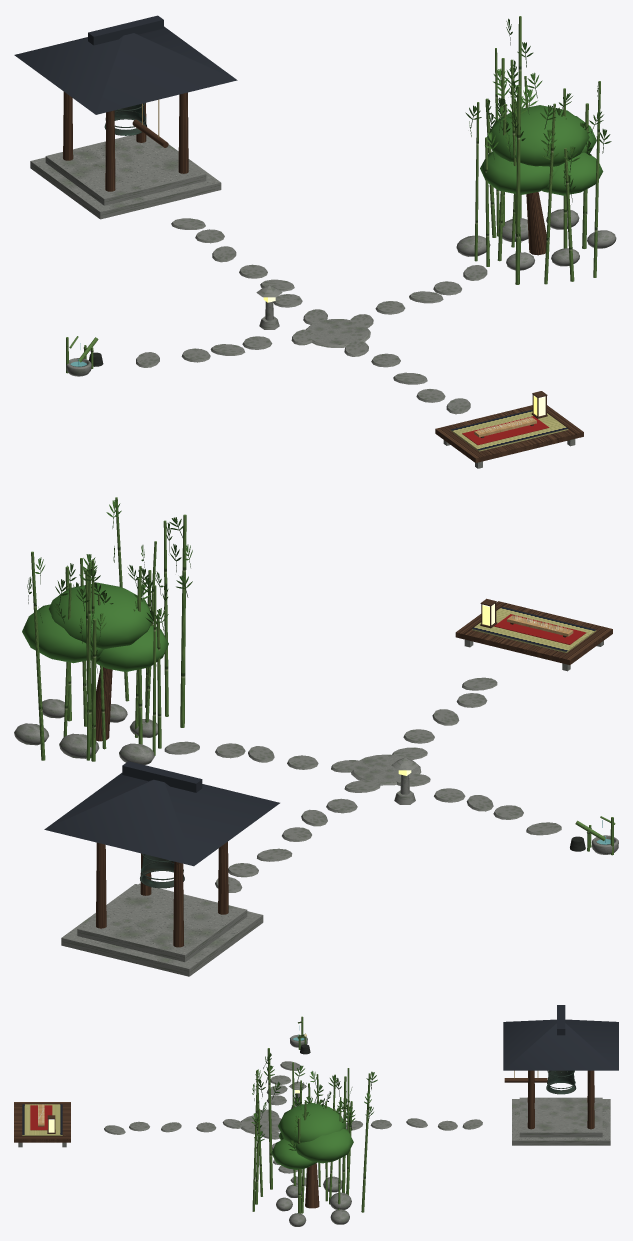
File: spatial-japan-garden.glb
3 views of the same model, one above another, from view 1: azimuth 30°, elevation 25°; view 2: azimuth 150°, elevation 25°; view 3: azimuth 270°, elevation 25° (orthographic). The views are drawn at different scales.
Parts seen in each view (by area): view 1: Shoro_Roof_Lower, Shoro_Plinth_Upper, Grove_Canopy_2, Shoro_Plinth_Lower, Engawa_Timber_Deck, Grove_Canopy_0, Engawa_Tatami_Mat, Grove_Canopy_3, Crossroads_Center_Stone, Shoro_Roof_Ridge, Grove_Gnarled_Trunk, Grove_Bamboo_6 (+6 smaller); view 2: Shoro_Roof_Lower, Shoro_Plinth_Upper, Grove_Canopy_2, Shoro_Plinth_Lower, Engawa_Timber_Deck, Grove_Canopy_1, Grove_Canopy_0, Engawa_Tatami_Mat, Crossroads_Center_Stone, Shoro_Roof_Ridge, Grove_Bamboo_6, Shoro_Pillar_2 (+9 smaller); view 3: Shoro_Roof_Lower, Shoro_Plinth_Upper, Grove_Canopy_2, Shoro_Plinth_Lower, Grove_Canopy_1, Engawa_Timber_Deck, Grove_Canopy_3, Engawa_Tatami_Mat, Grove_Gnarled_Trunk, Crossroads_Center_Stone, Bonsho_Bronze_Body, Grove_Bamboo_6 (+5 smaller).
Part boxes in pixels (x1,y1,x2,y2): Shoro_Roof_Lower: [14, 26, 237, 114]; Shoro_Plinth_Upper: [45, 135, 206, 205]; Grove_Canopy_2: [486, 105, 589, 166]; Shoro_Plinth_Lower: [30, 144, 221, 219]; Engawa_Timber_Deck: [435, 405, 583, 462]; Grove_Canopy_0: [480, 152, 557, 194]; Engawa_Tatami_Mat: [450, 409, 568, 451]; Grove_Canopy_3: [542, 152, 603, 195]; Crossroads_Center_Stone: [306, 319, 370, 347]; Shoro_Roof_Ridge: [88, 15, 163, 45]; Grove_Gnarled_Trunk: [526, 192, 546, 255]; Grove_Bamboo_6: [515, 85, 520, 284]; Shoro_Roof_Lower: [44, 773, 279, 866]; Shoro_Plinth_Upper: [77, 883, 247, 962]; Grove_Canopy_2: [49, 582, 153, 649]; Shoro_Plinth_Lower: [61, 884, 263, 976]; Engawa_Timber_Deck: [455, 601, 612, 664]; Grove_Canopy_1: [22, 604, 103, 663]; Grove_Canopy_0: [96, 625, 168, 671]; Engawa_Tatami_Mat: [472, 607, 596, 652]; Crossroads_Center_Stone: [351, 754, 421, 785]; Shoro_Roof_Ridge: [122, 761, 202, 792]; Grove_Bamboo_6: [180, 514, 186, 727]; Shoro_Pillar_2: [96, 842, 106, 928]; Shoro_Roof_Lower: [503, 1019, 618, 1070]; Shoro_Plinth_Upper: [519, 1097, 602, 1137]; Grove_Canopy_2: [278, 1103, 346, 1144]; Shoro_Plinth_Lower: [512, 1099, 610, 1145]; Grove_Canopy_1: [294, 1128, 353, 1163]; Engawa_Timber_Deck: [14, 1102, 70, 1142]; Grove_Canopy_3: [271, 1139, 316, 1169]; Engawa_Tatami_Mat: [22, 1104, 62, 1135]; Grove_Gnarled_Trunk: [305, 1163, 319, 1208]; Crossroads_Center_Stone: [240, 1114, 281, 1134]; Bonsho_Bronze_Body: [546, 1070, 576, 1094]; Grove_Bamboo_6: [267, 1048, 272, 1189].
Bounding box in the file's own units: 17.16 × 6.13 × 23.33.
Materials: 20 (8 with a texture image).
